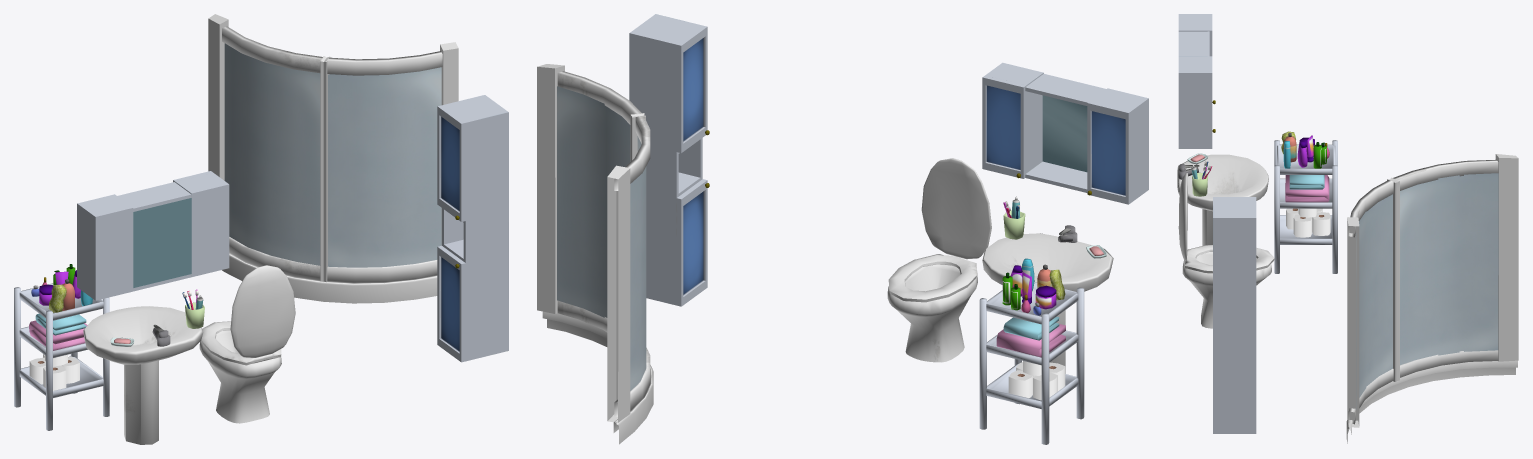
Rendered from Bathroom_Small.fbx.
3 renders of one model, left to right at view 1: azimuth 30°, elevation 25°; view 2: azimuth 150°, elevation 25°; view 3: azimuth 270°, elevation 25°, orthographic. The views are drawn at different scales.
Parts seen in each view (by area): view 1: Bathroom_Small; view 2: Bathroom_Small; view 3: Bathroom_Small.
Part boxes in pixels (<box>): Bathroom_Small: <box>14,14,508,444</box>; Bathroom_Small: <box>537,14,1148,444</box>; Bathroom_Small: <box>1177,14,1518,443</box>.
Size of the model in its own units: 413 by 219 by 294.
